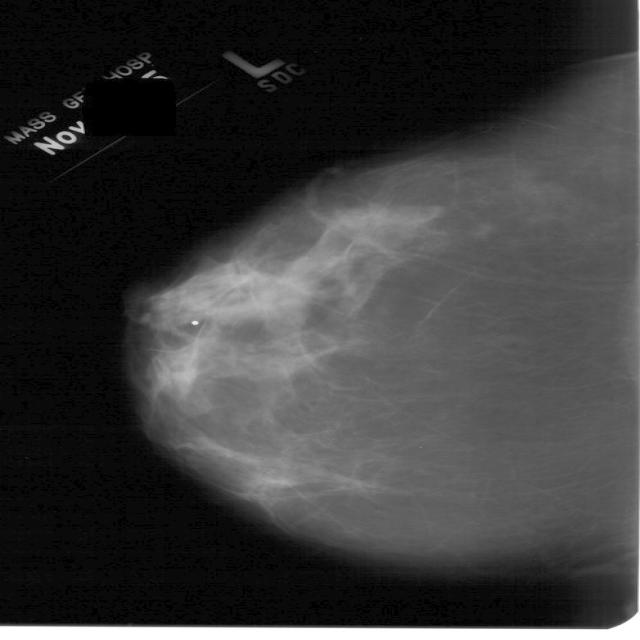tumour: (189, 272, 308, 318)
